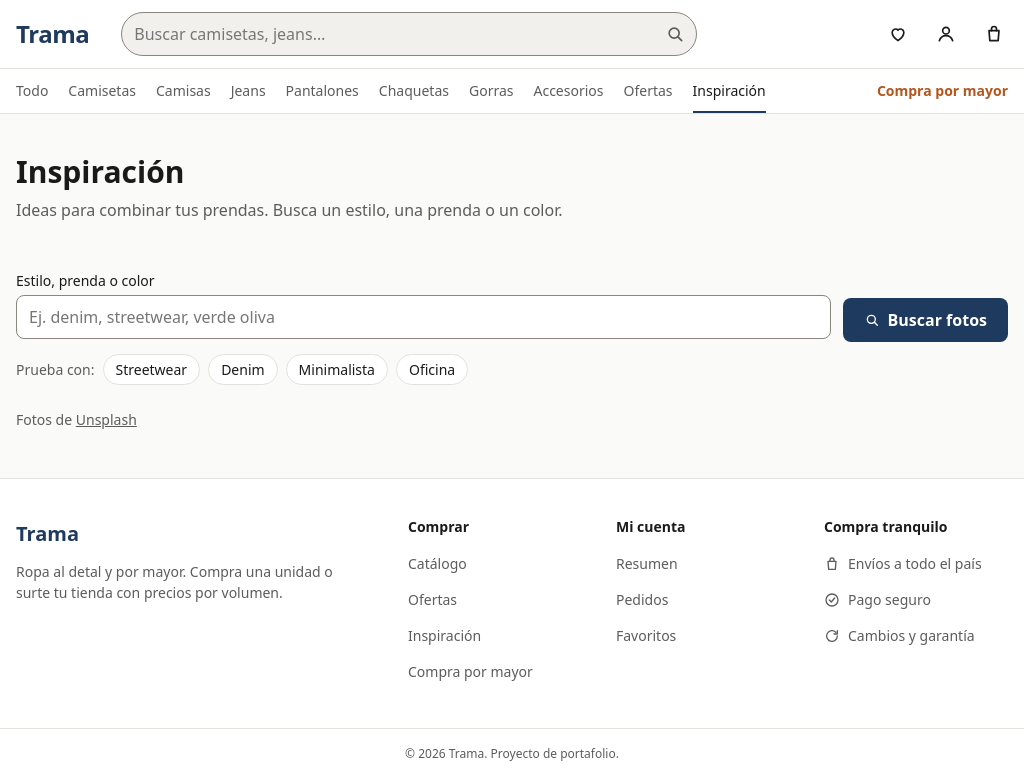
Test: Inspiración (Unsplash) › si la API falla muestra el mensaje de error
Step 1. Type "denim" into the search field labelled "Estilo, prenda o color" → [423, 317], box [16,295,831,339]
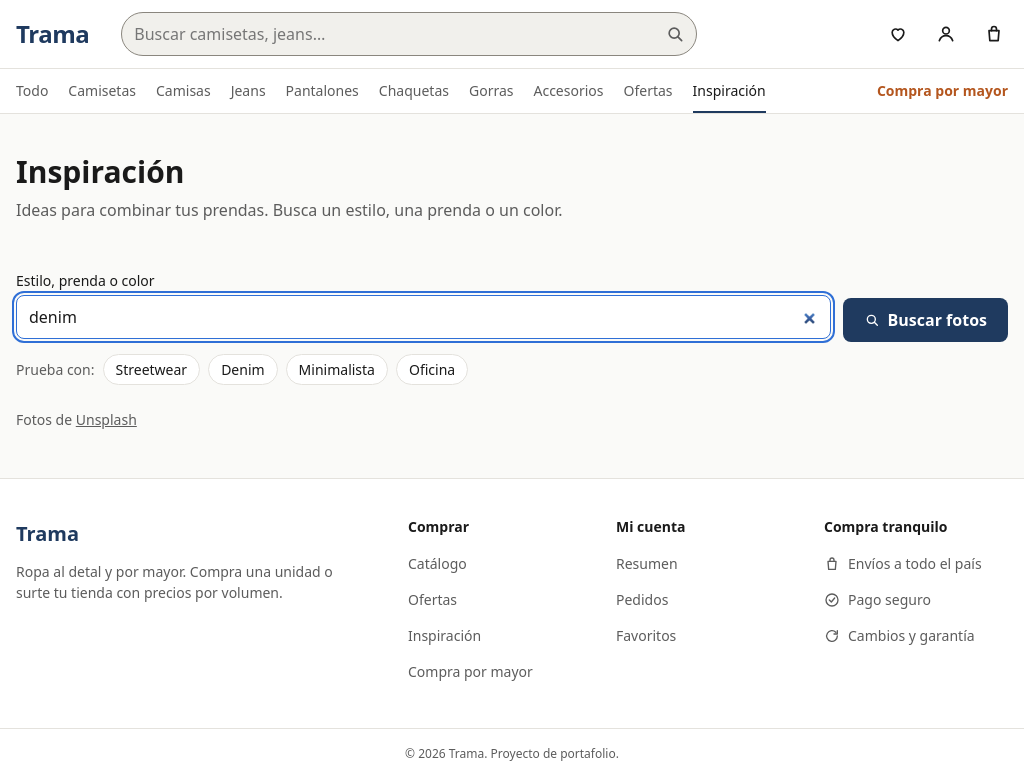
Step 2. Click the button "Buscar fotos" → [925, 320], box [843,298,1008,342]
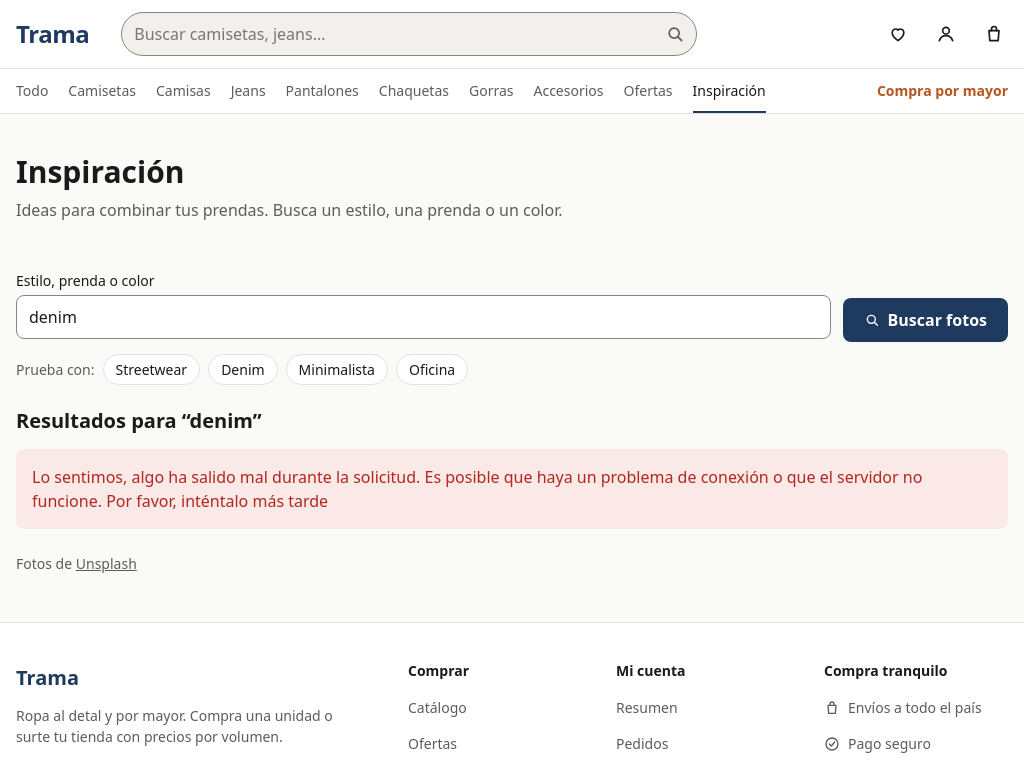
Result: the message shows "Lo sentimos, algo ha salido mal durante la solicitud. Es posible que haya un problema de conexión o que el servidor no funcione. Por favor, inténtalo más tarde" at [32,466,922,512]
